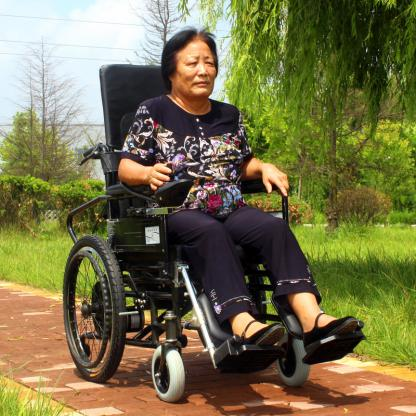wheelchair: (64, 26, 368, 406)
